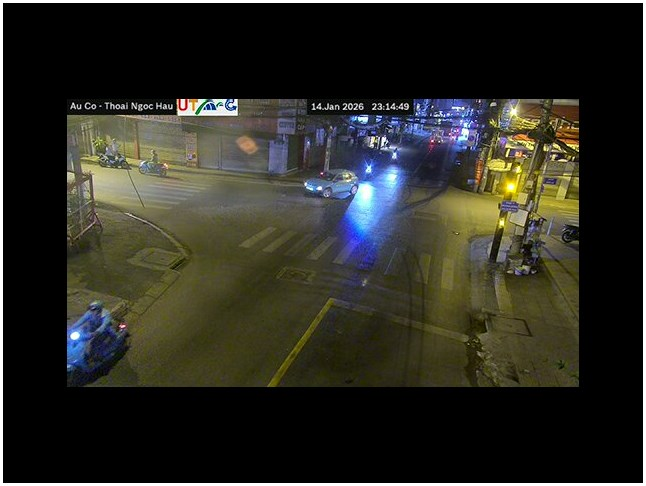car: (303, 169, 358, 200)
motorbike: (68, 301, 131, 387), (99, 141, 130, 170), (140, 149, 169, 178), (362, 158, 375, 177), (387, 147, 402, 161)
